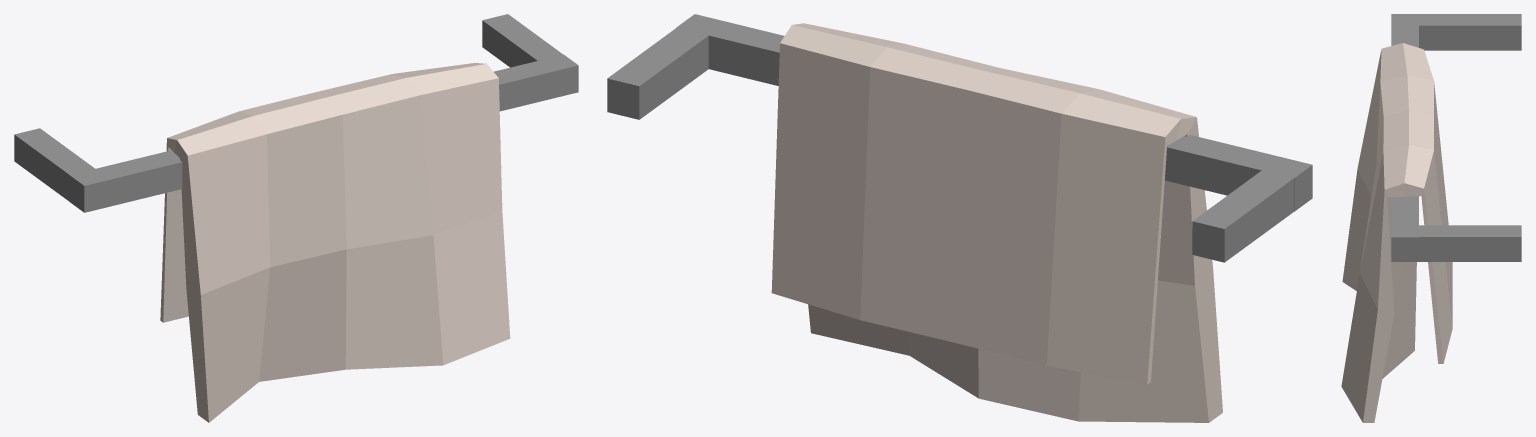
The model's file is Towel_9.fbx.
3 renders of one model, left to right at view 1: azimuth 30°, elevation 25°; view 2: azimuth 150°, elevation 25°; view 3: azimuth 270°, elevation 25°, orthographic. The views are drawn at different scales.
Visible parts, largest first — view 1: Towel_9; view 2: Towel_9; view 3: Towel_9.
Part boxes in pixels (<box>): Towel_9: <box>14,14,578,422</box>; Towel_9: <box>607,14,1312,422</box>; Towel_9: <box>1341,14,1521,422</box>.
Bounding box in the file's own units: 126 × 42.92 × 63.71.
